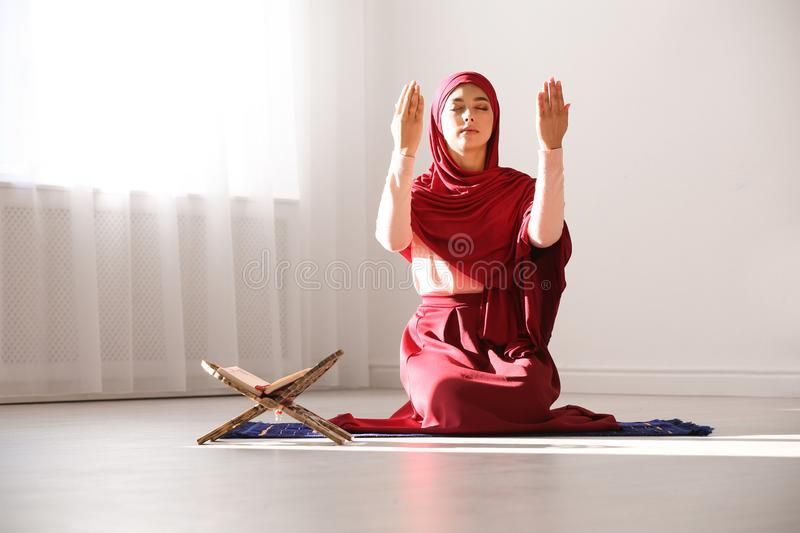No Mask: (436, 77, 522, 183)
